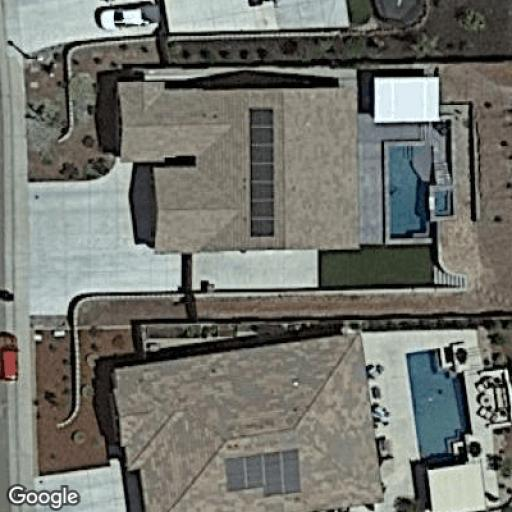solar-panel: (222, 444, 305, 502), (246, 104, 278, 240)
